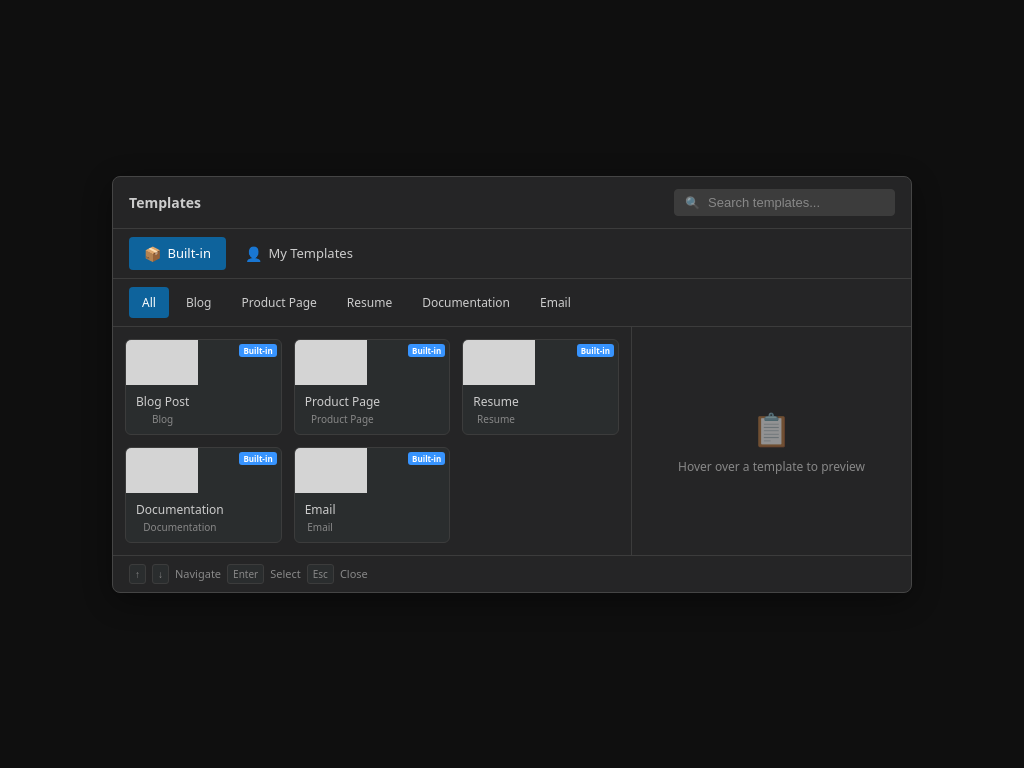
Test case: TemplateSelector.vue › Search Functionality › shows no results message when search matches nothing
In the field with class "search-input": (796, 202) top-left (708, 194), bottom-right (884, 210), type "nonexistenttemplatexyz"
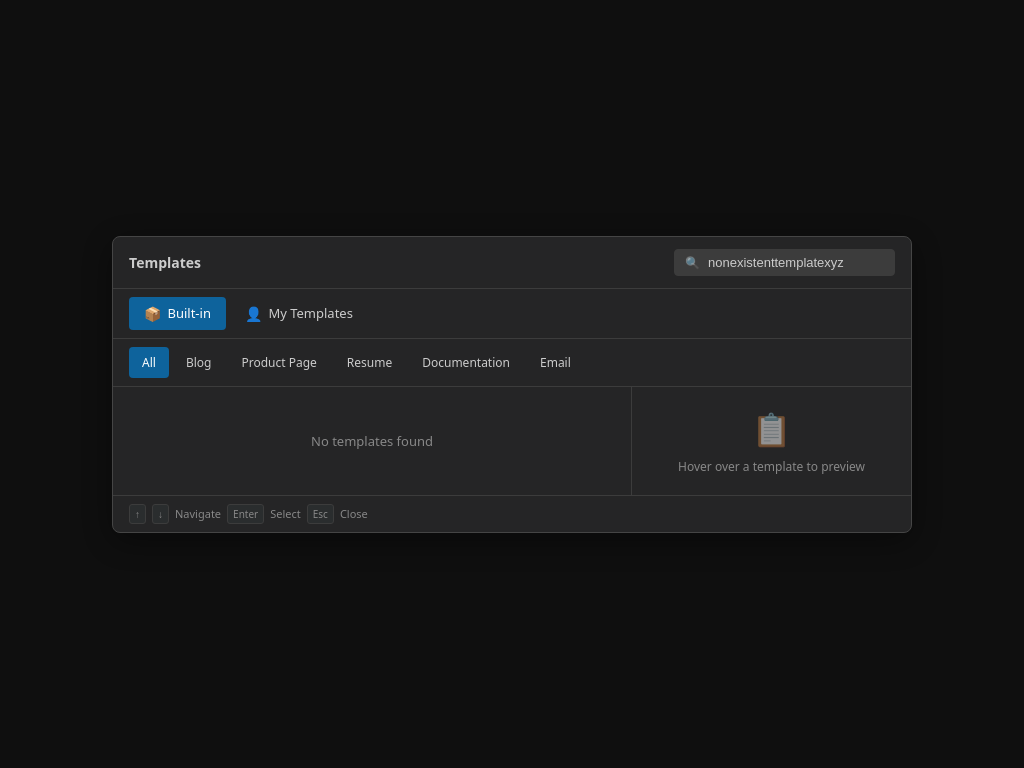
Check: the element with class "no-results" is shown, box top-left (311, 432), bottom-right (433, 450)
